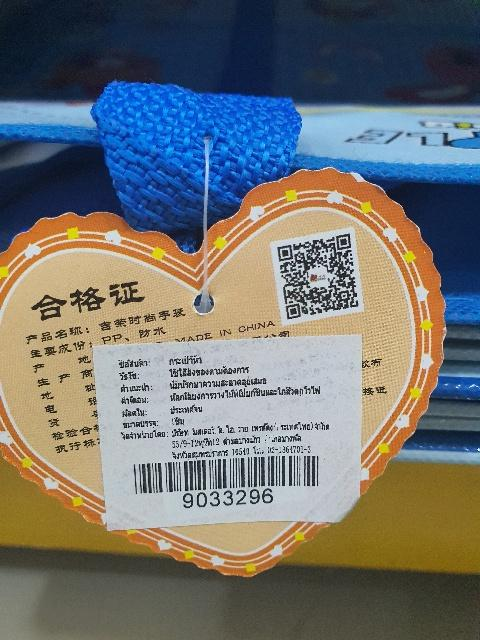Barcode: (129, 451, 329, 510)
